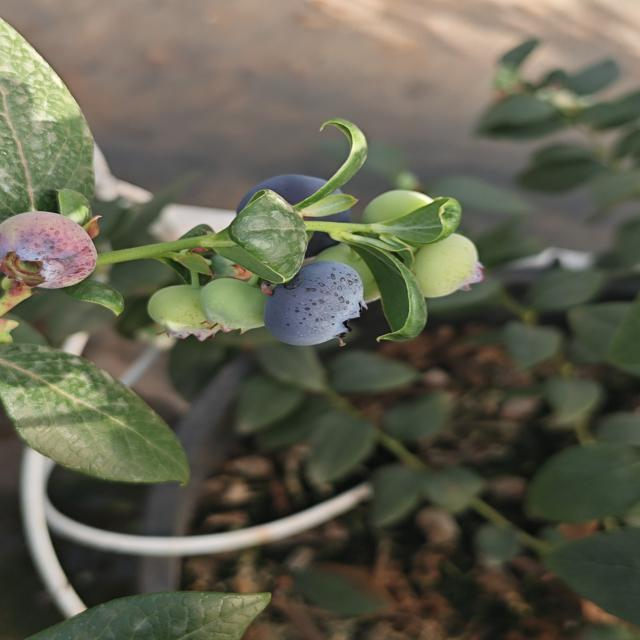ripe: (235, 169, 354, 256), (260, 260, 369, 348)
